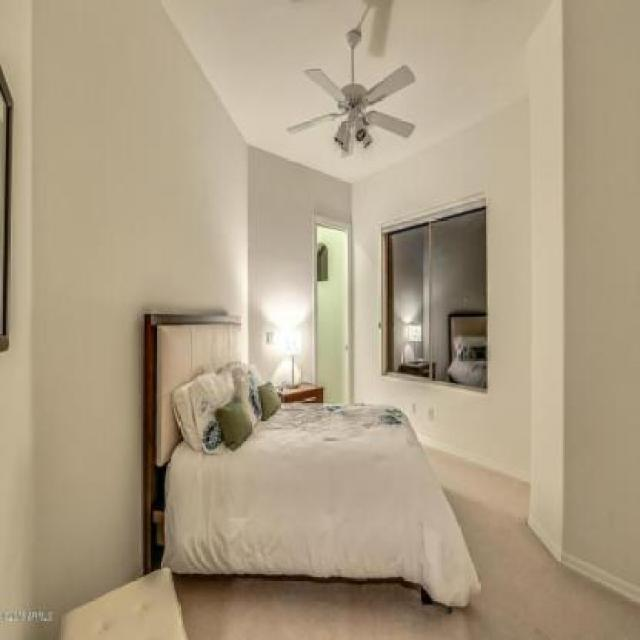Floor: (171, 442, 639, 639)
